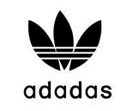adidas Fake: (21, 9, 115, 102)
